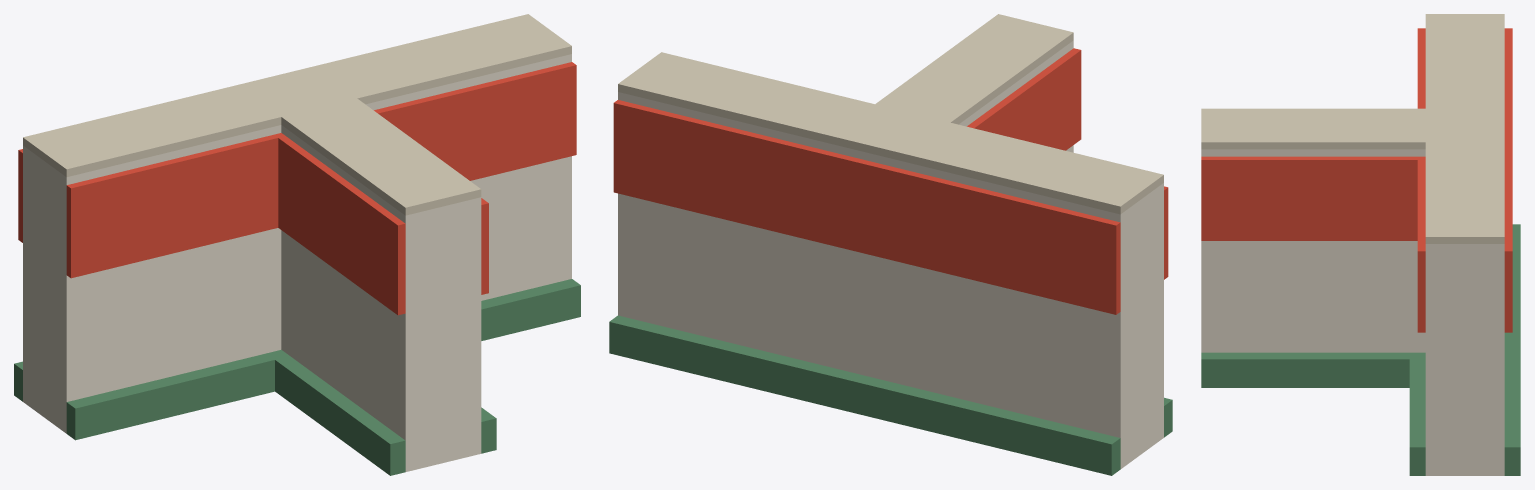
The model's file is partition-low-tee.glb.
The picture shows the model from 3 angles, left to right: view 1: azimuth 30°, elevation 25°; view 2: azimuth 150°, elevation 25°; view 3: azimuth 270°, elevation 25°; orthographic projection. The views are drawn at different scales.
Parts seen in each view (by area): view 1: partition-low-tee; view 2: partition-low-tee; view 3: partition-low-tee.
Boxes of the visible parts, box(x1,y1,x2,y2) form: partition-low-tee: box(14, 14, 580, 475); partition-low-tee: box(609, 14, 1172, 475); partition-low-tee: box(1201, 14, 1520, 475).
Bounding box in the file's own units: 1 × 0.5 × 0.605.
Materials: 1 (1 with a texture image).
